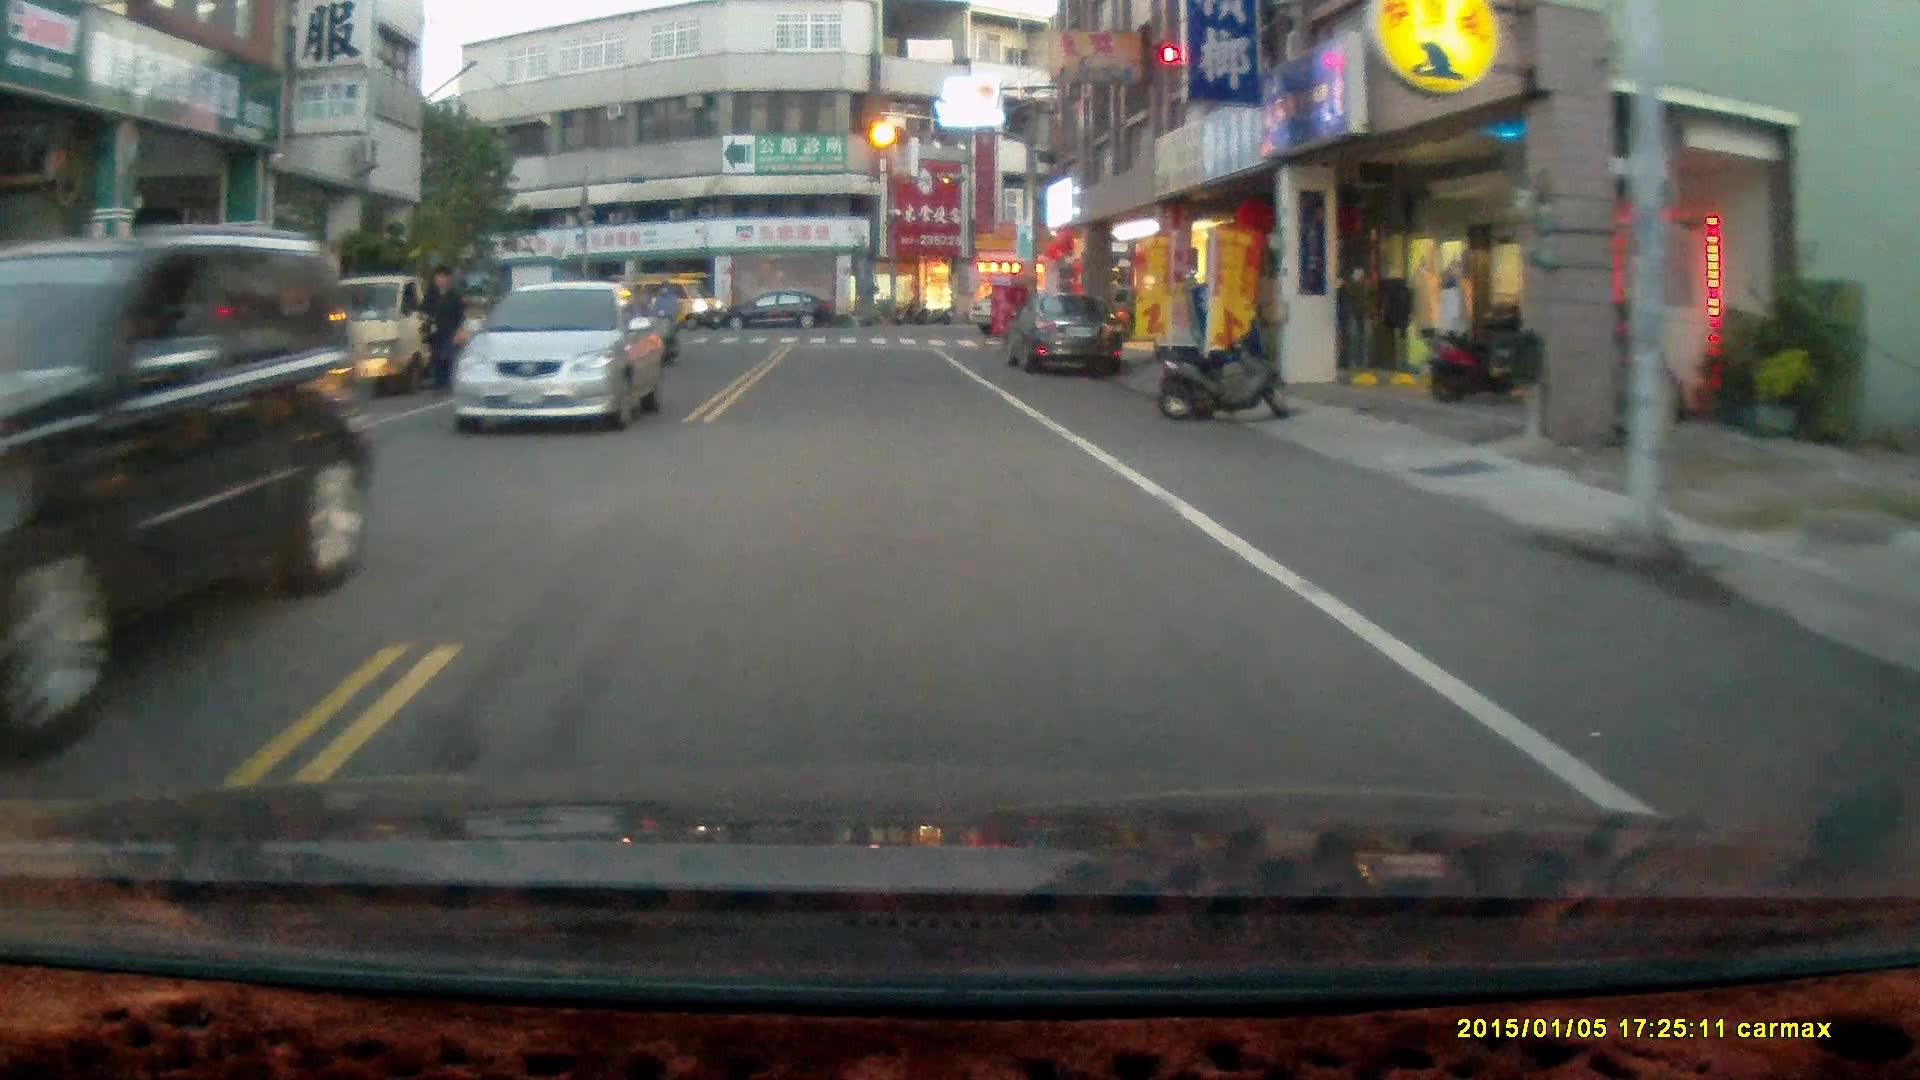pedestrian: (417, 261, 471, 399)
rider: (645, 281, 682, 373)
vehicle: (1, 236, 371, 710), (37, 300, 315, 450), (454, 281, 671, 436), (293, 274, 490, 399), (1003, 289, 1126, 382), (606, 275, 730, 336), (719, 291, 838, 336)
